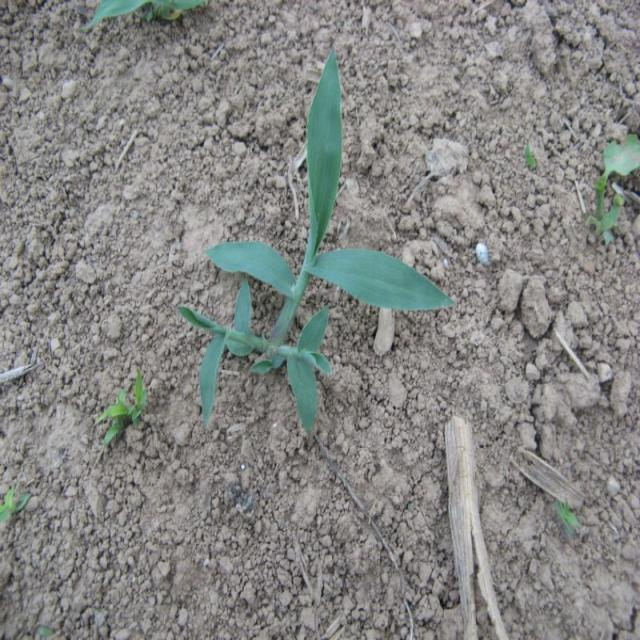bg: (181, 58, 455, 442)
